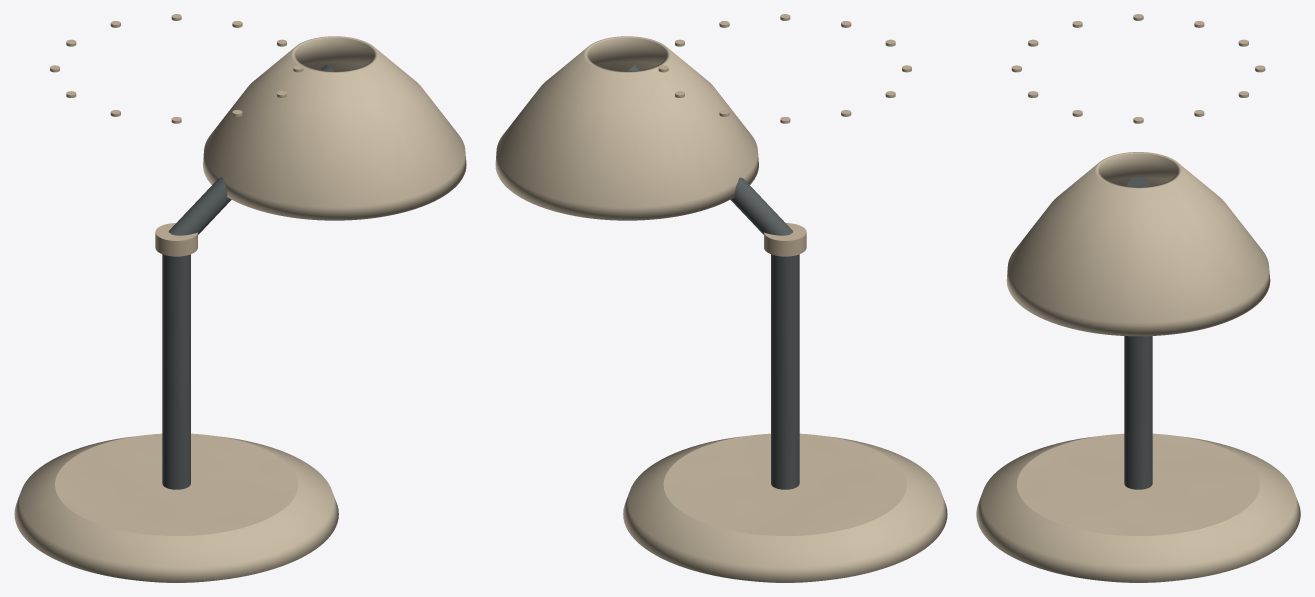
3 views of the same model, side by side, from view 1: azimuth 30°, elevation 25°; view 2: azimuth 150°, elevation 25°; view 3: azimuth 270°, elevation 25° (orthographic).
Parts seen in each view (by area): view 1: weighted-base, enameled-shade, lower-arm, upper-arm, joint-cover; view 2: weighted-base, enameled-shade, lower-arm, upper-arm, joint-cover; view 3: weighted-base, enameled-shade, lower-arm.
Part boxes in pixels (left/top/right/bottom): weighted-base: left=14, top=433, right=338, bottom=582; enameled-shade: left=203, top=36, right=466, bottom=220; lower-arm: left=162, top=254, right=190, bottom=489; upper-arm: left=169, top=65, right=333, bottom=235; joint-cover: left=155, top=223, right=197, bottom=256; weighted-base: left=623, top=433, right=947, bottom=582; enameled-shade: left=495, top=36, right=758, bottom=220; lower-arm: left=771, top=254, right=799, bottom=489; upper-arm: left=628, top=65, right=792, bottom=235; joint-cover: left=764, top=223, right=806, bottom=256; weighted-base: left=976, top=433, right=1300, bottom=582; enameled-shade: left=1006, top=152, right=1270, bottom=336; lower-arm: left=1124, top=336, right=1152, bottom=489.
Size of the model in its own units: 0.47 by 0.498 by 0.32.
3 materials, 3 textured.
